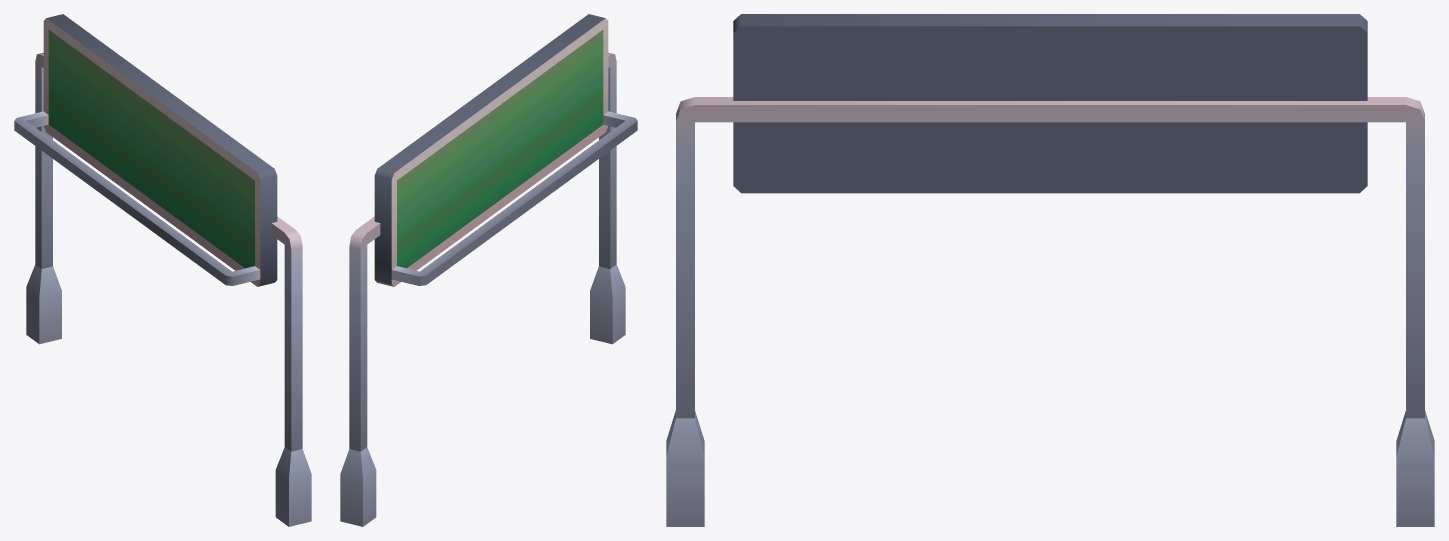
Rendered from road_sign_highway_wide.glb.
3 renders of one model, left to right at view 1: azimuth 30°, elevation 25°; view 2: azimuth 150°, elevation 25°; view 3: azimuth 270°, elevation 25°, orthographic. The views are drawn at different scales.
Visible parts, largest first — view 1: sign-highway-wide; view 2: sign-highway-wide; view 3: sign-highway-wide.
Part boxes in pixels (box(x1,y1,x2,y2)): sign-highway-wide: box(14, 14, 311, 526); sign-highway-wide: box(340, 14, 637, 526); sign-highway-wide: box(666, 14, 1434, 526).
Size of the model in its own units: 0.1324 by 0.7074 by 1.
Materials: 1 (1 with a texture image).
